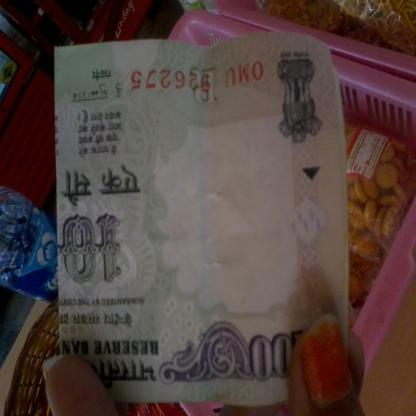Old100Front: (53, 31, 350, 408)
